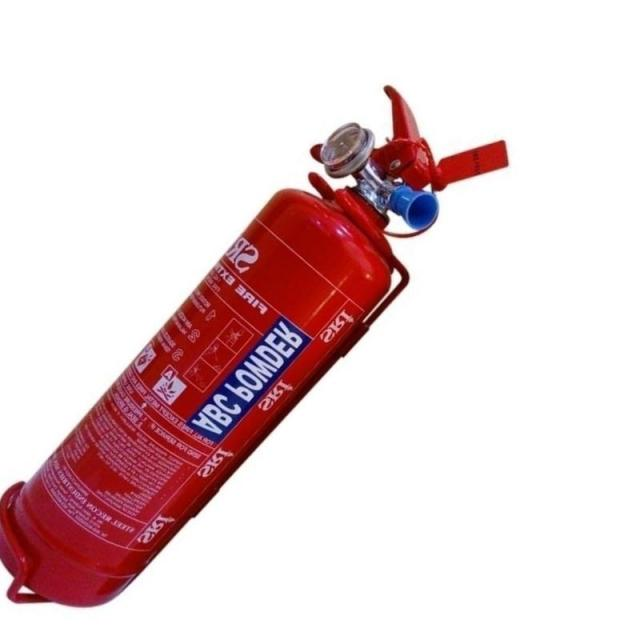fire_extinguisher: (0, 78, 518, 617)
